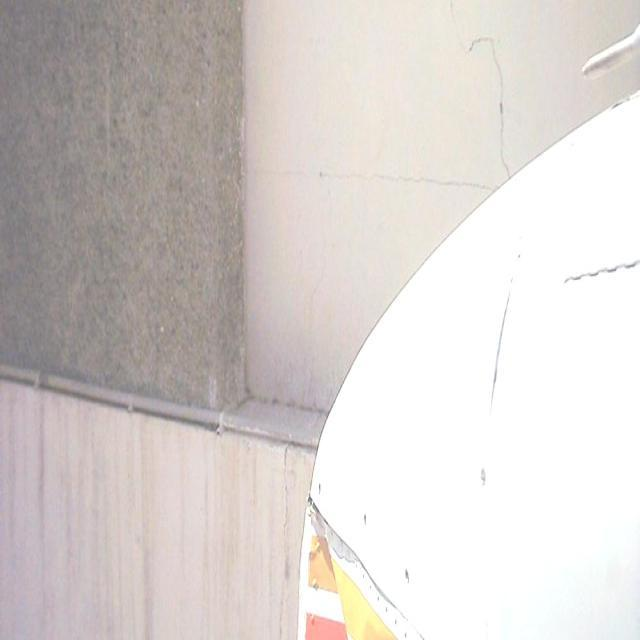dent: (300, 489, 355, 640)
